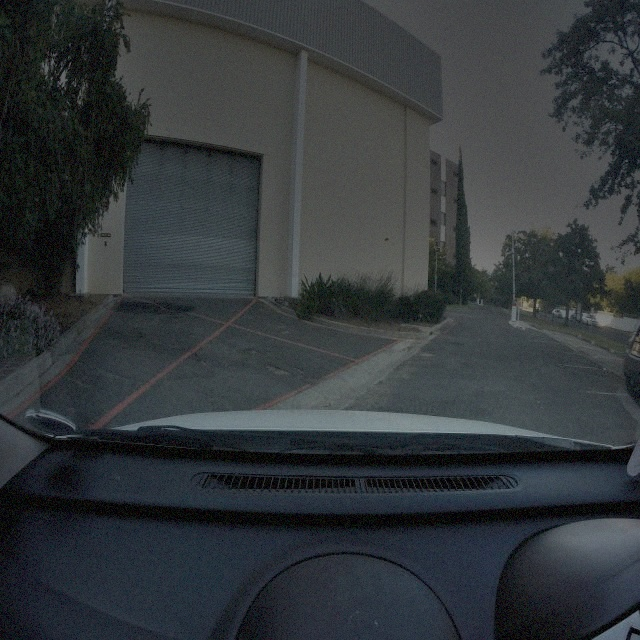pothole: (266, 364, 290, 378), (295, 366, 305, 376), (420, 352, 435, 358), (247, 346, 258, 354)
